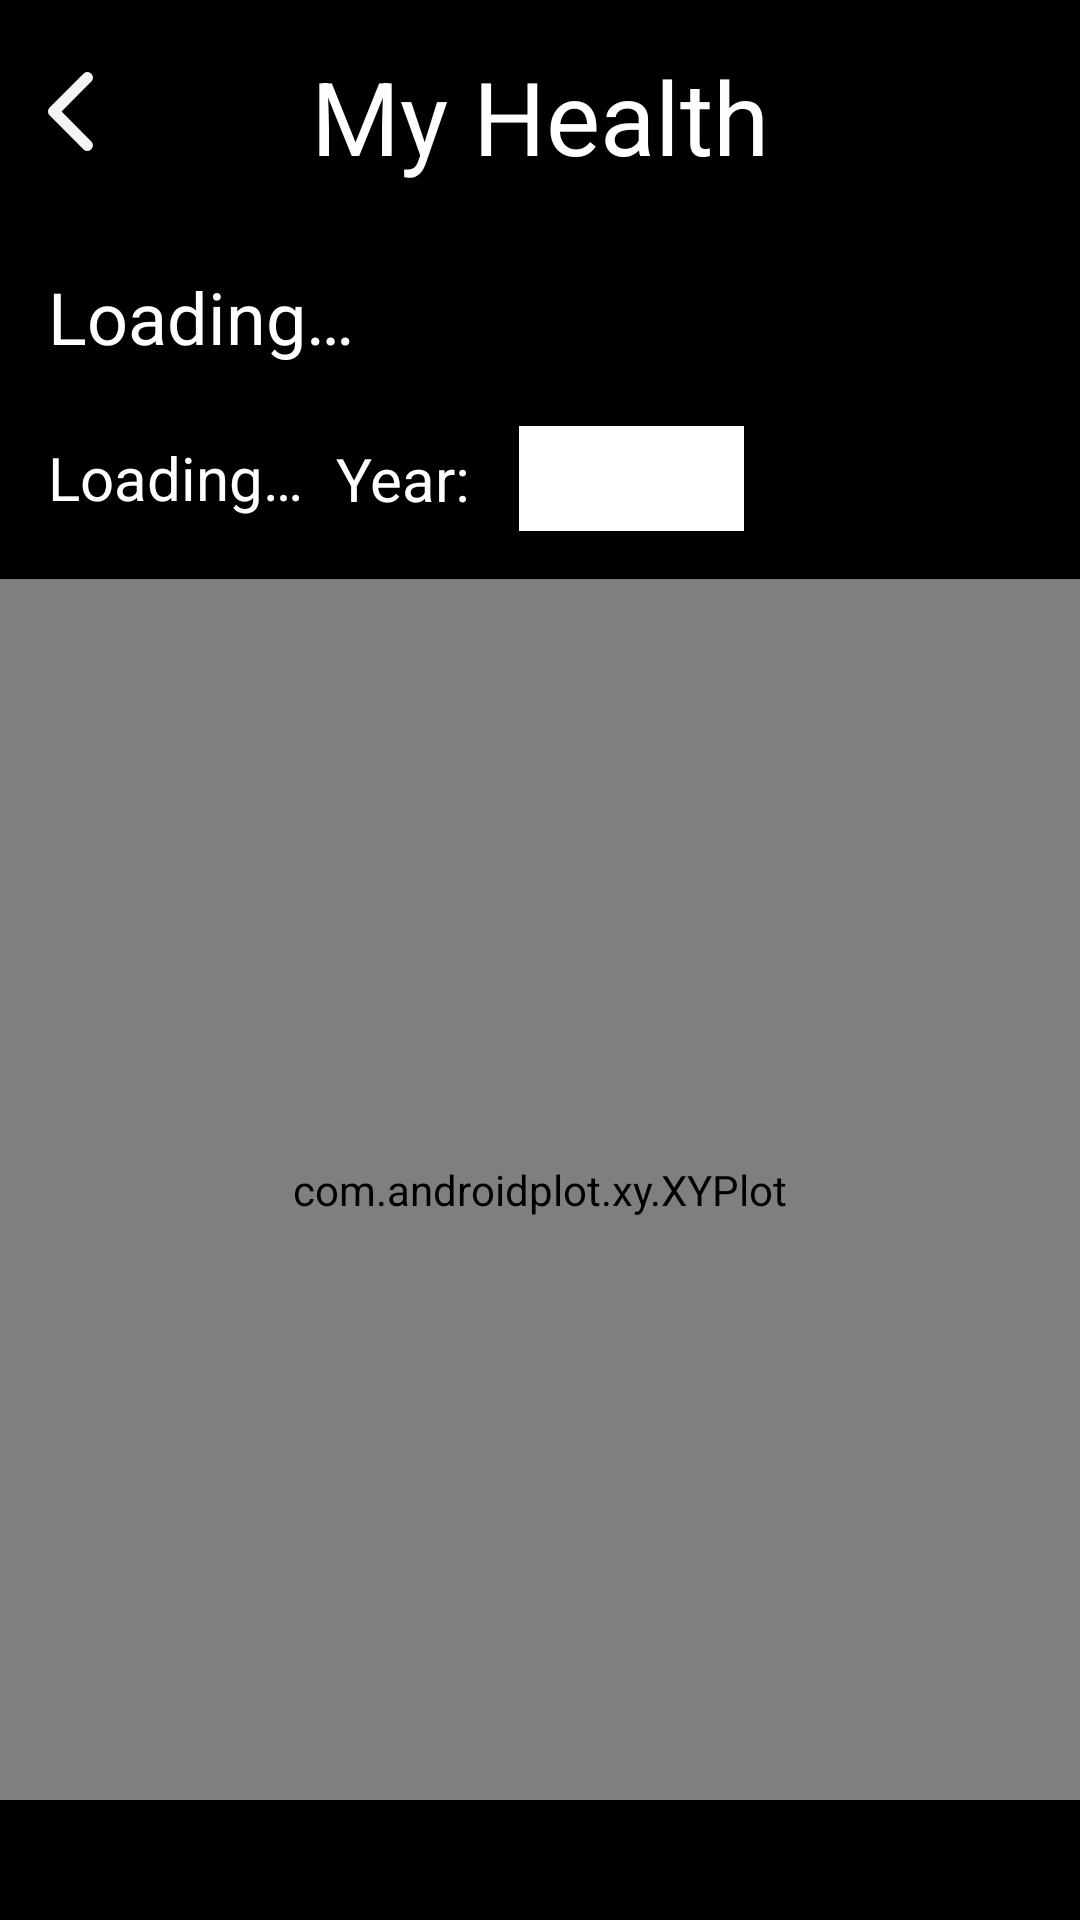

Icons on this 1080×1920 Android screen, each with the point to tap as [x,y]:
Back button: [70,111]
